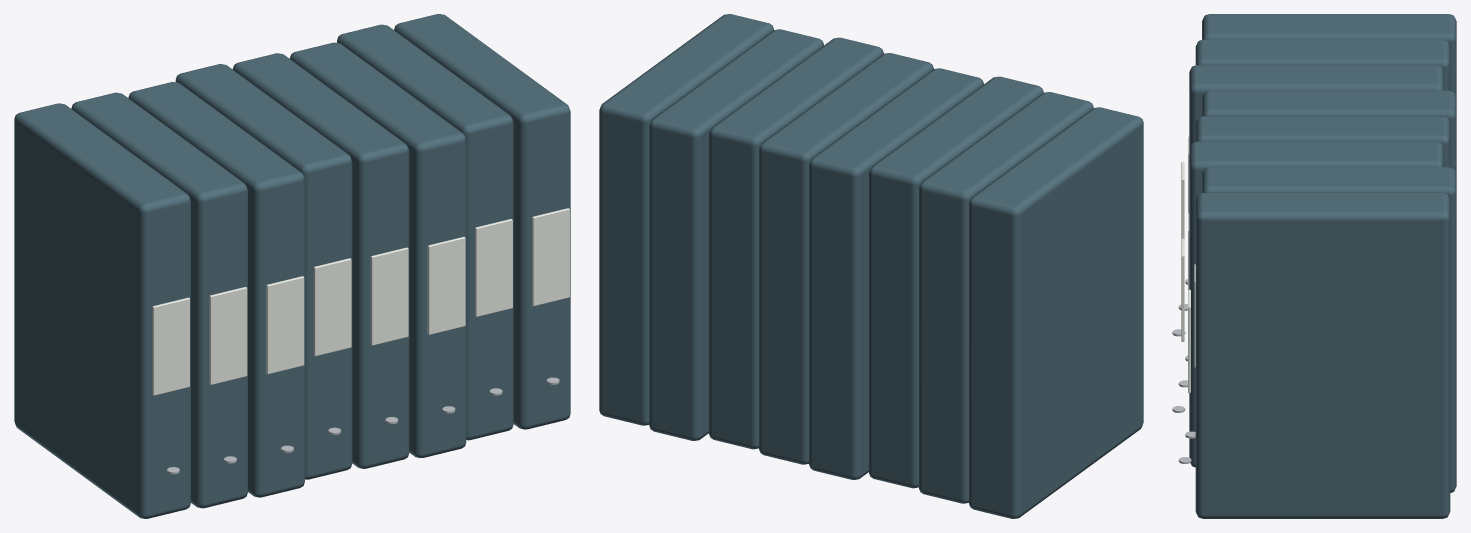
The model's file is binder_row01.glb.
3 views of the same model, side by side, from view 1: azimuth 30°, elevation 25°; view 2: azimuth 150°, elevation 25°; view 3: azimuth 270°, elevation 25° (orthographic). The views are drawn at different scales.
Visible parts, largest first — view 1: binding, label, ring_eyelet; view 2: binding; view 3: binding, label, ring_eyelet.
Boxes of the visible parts, bbox=[...] form: binding: bbox=[14, 14, 570, 518]; label: bbox=[152, 208, 569, 395]; ring_eyelet: bbox=[167, 377, 559, 474]; binding: bbox=[599, 14, 1143, 518]; binding: bbox=[1189, 14, 1456, 518]; label: bbox=[1181, 136, 1195, 392]; ring_eyelet: bbox=[1172, 279, 1195, 463].
Size of the model in its own units: 0.454 by 0.32 by 0.268.
